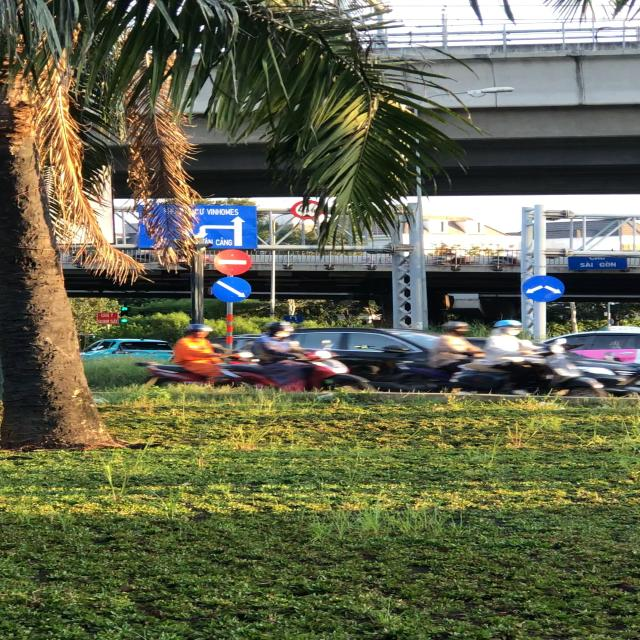Bien bao cam di nguoc chieu: (210, 246, 255, 276)
Bien bao huong phai di vong chuong ngai vat: (208, 276, 261, 304), (520, 274, 570, 303)
